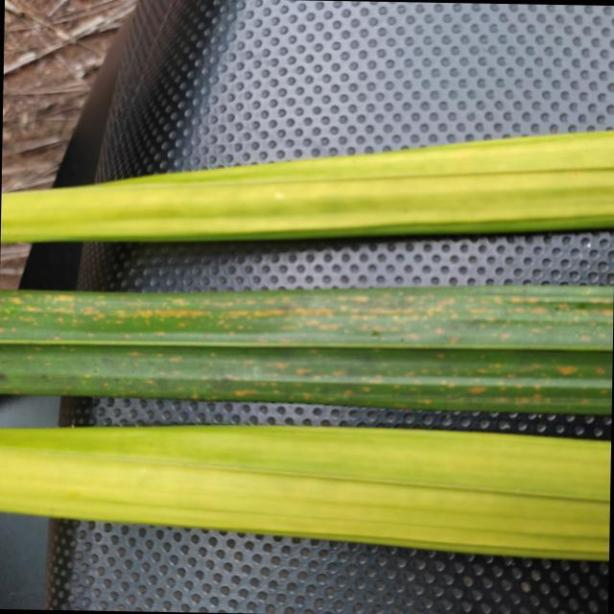nitrogen: (0, 414, 614, 563), (0, 277, 614, 414), (3, 123, 614, 243)
